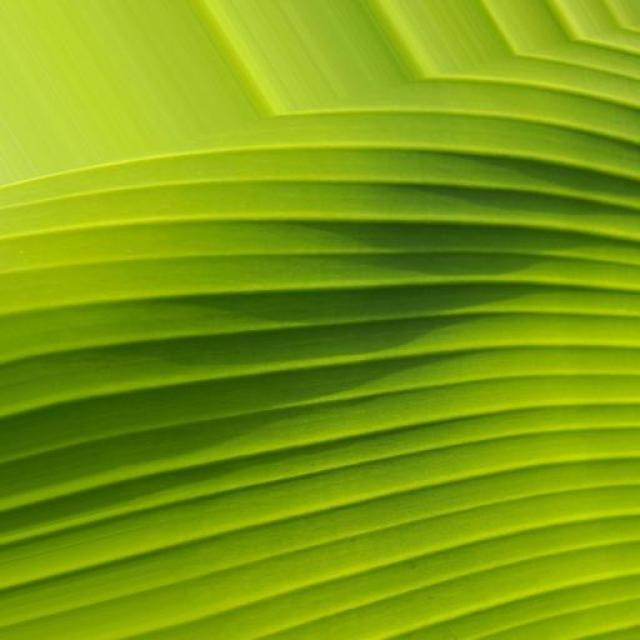Black_leaf_spot: (6, 91, 640, 640)
